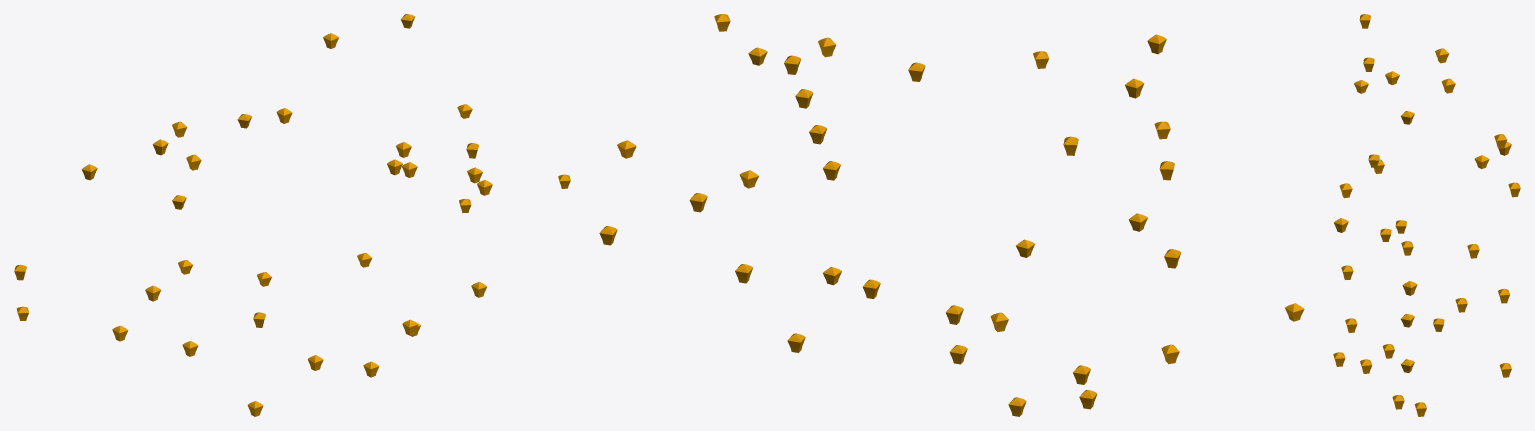
File: Lanterns.fbx
The picture shows the model from 3 angles, left to right: view 1: azimuth 30°, elevation 25°; view 2: azimuth 150°, elevation 25°; view 3: azimuth 270°, elevation 25°; orthographic projection. The views are drawn at different scales.
Bounding box in the file's own units: 3662 × 1922 × 1141.
